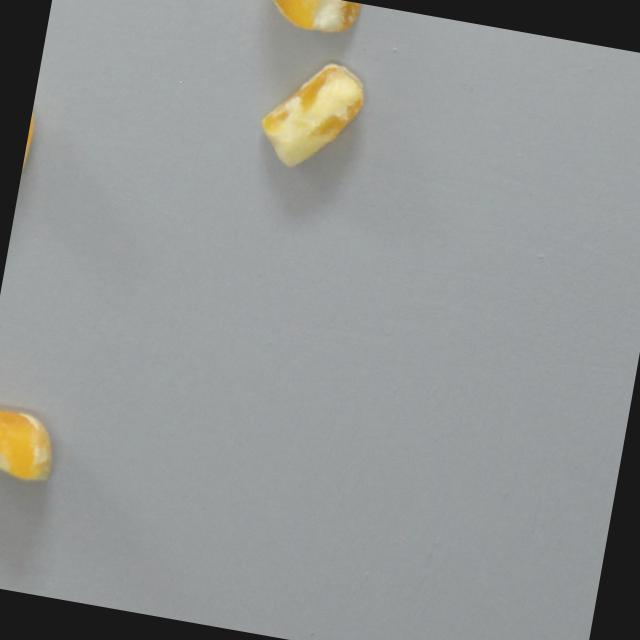pelicula: (249, 50, 371, 181), (0, 407, 63, 487), (253, 0, 364, 41)
